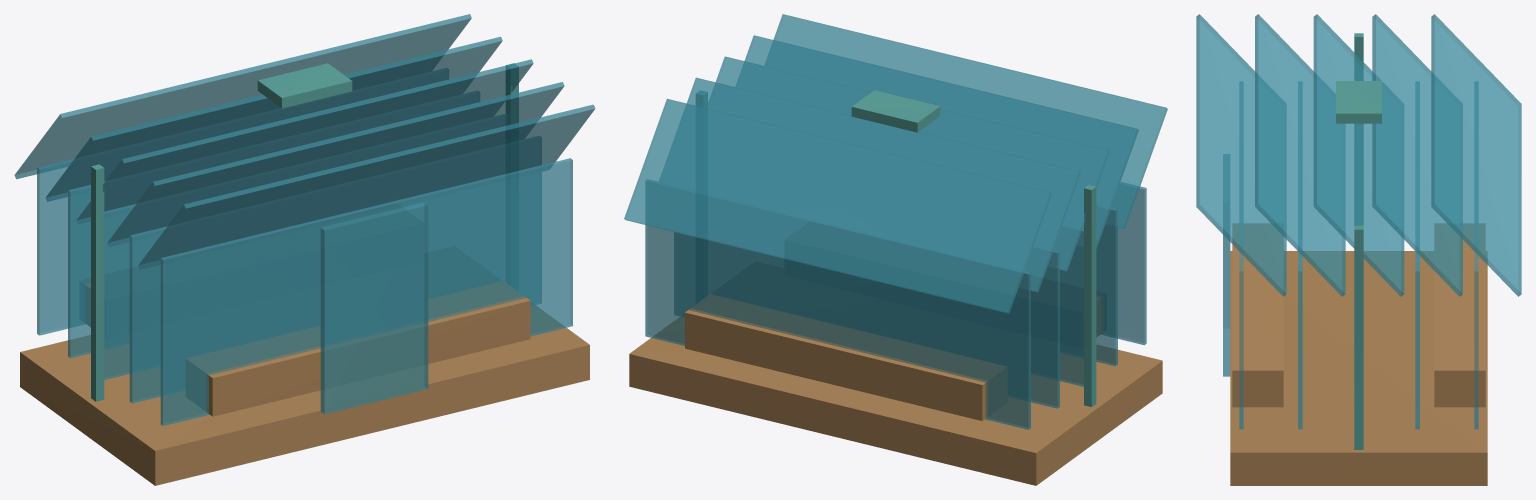
File: greenhouse.source.glb
The picture shows the model from 3 angles, left to right: view 1: azimuth 30°, elevation 25°; view 2: azimuth 150°, elevation 25°; view 3: azimuth 270°, elevation 25°; orthographic projection. The views are drawn at different scales.
Parts seen in each view (by area): view 1: greenhouse-wall-panel-mesh (×5), greenhouse-roof-panel-mesh (×5), greenhouse-curb-mesh, greenhouse-door-mesh, greenhouse-bench-mesh, greenhouse-frame-rib-mesh (×2), greenhouse-roof-vent-mesh; view 2: greenhouse-roof-panel-mesh (×5), greenhouse-wall-panel-mesh (×5), greenhouse-curb-mesh, greenhouse-bench-mesh, greenhouse-frame-rib-mesh, greenhouse-roof-vent-mesh; view 3: greenhouse-roof-panel-mesh (×5), greenhouse-curb-mesh, greenhouse-bench-mesh (×2), greenhouse-wall-panel-mesh (×4), greenhouse-frame-rib-mesh (×2), greenhouse-roof-vent-mesh, greenhouse-door-mesh.
Boxes of the visible parts, left/top/right/bottom form: greenhouse-wall-panel-mesh (×5): left=37, top=68, right=572, bottom=425; greenhouse-roof-panel-mesh (×5): left=14, top=14, right=595, bottom=269; greenhouse-curb-mesh: left=20, top=305, right=589, bottom=485; greenhouse-door-mesh: left=320, top=202, right=428, bottom=414; greenhouse-bench-mesh: left=186, top=281, right=530, bottom=416; greenhouse-frame-rib-mesh (×2): left=91, top=63, right=518, bottom=401; greenhouse-roof-vent-mesh: left=257, top=63, right=352, bottom=108; greenhouse-roof-panel-mesh (×5): left=624, top=14, right=1167, bottom=313; greenhouse-wall-panel-mesh (×5): left=645, top=180, right=1146, bottom=429; greenhouse-curb-mesh: left=629, top=317, right=1162, bottom=485; greenhouse-bench-mesh: left=685, top=294, right=1007, bottom=420; greenhouse-frame-rib-mesh: left=1084, top=185, right=1096, bottom=406; greenhouse-roof-vent-mesh: left=851, top=90, right=940, bottom=132; greenhouse-roof-panel-mesh (×5): left=1196, top=14, right=1521, bottom=296; greenhouse-curb-mesh: left=1230, top=251, right=1487, bottom=485; greenhouse-bench-mesh (×2): left=1232, top=223, right=1485, bottom=407; greenhouse-wall-panel-mesh (×4): left=1239, top=82, right=1478, bottom=429; greenhouse-frame-rib-mesh (×2): left=1354, top=33, right=1363, bottom=449; greenhouse-roof-vent-mesh: left=1336, top=81, right=1381, bottom=123; greenhouse-door-mesh: left=1223, top=154, right=1230, bottom=376.
Size of the model in its own units: 2.6 by 1.73 by 1.77.
